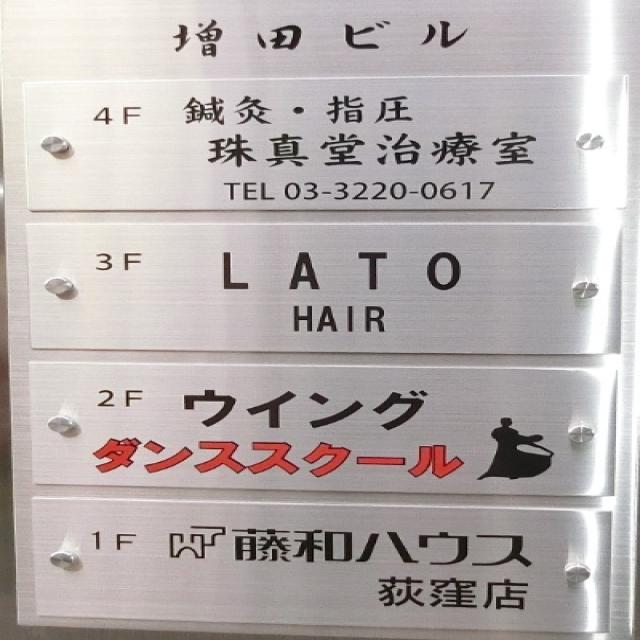building: (156, 15, 480, 66)
facility: (77, 378, 470, 488), (217, 519, 550, 620), (197, 242, 506, 341), (169, 91, 550, 171)
floor: (87, 245, 155, 279), (91, 380, 153, 415), (89, 100, 149, 130), (85, 527, 142, 556)
